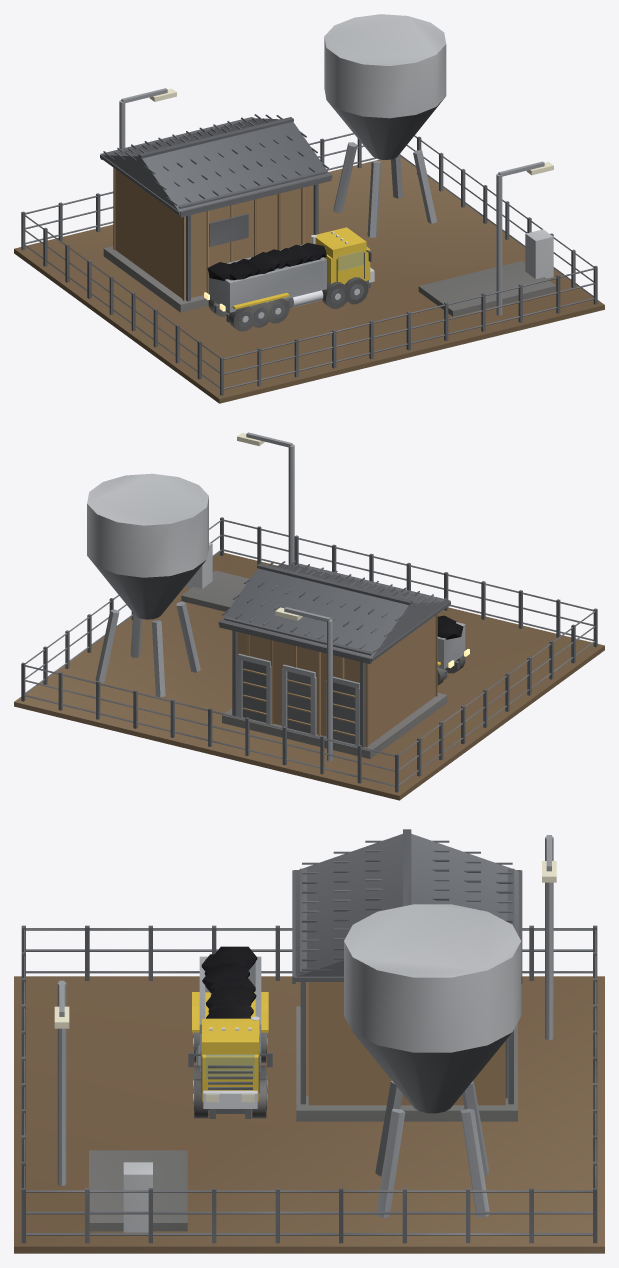
The model's file is Haul_P1.fbx.
The picture shows the model from 3 angles, top to bottom: view 1: azimuth 30°, elevation 25°; view 2: azimuth 150°, elevation 25°; view 3: azimuth 270°, elevation 25°; orthographic projection. The views are drawn at different scales.
Parts seen in each view (by area): view 1: Haul.Yard, Haul.Workshop, Haul.Hopper, Haul.Parked0, Haul.Fence, Haul.Weighbridge, Haul.Lamp0, Haul.Lamp1; view 2: Haul.Yard, Haul.Workshop, Haul.Hopper, Haul.Fence, Haul.Weighbridge, Haul.Parked0, Haul.Lamp1, Haul.Lamp0; view 3: Haul.Yard, Haul.Hopper, Haul.Workshop, Haul.Fence, Haul.Parked0, Haul.Weighbridge, Haul.Lamp0, Haul.Lamp1.
Boxes of the visible parts, x1,y1,x2,y2 form: Haul.Yard: [14, 156, 604, 403]; Haul.Workshop: [100, 114, 332, 312]; Haul.Hopper: [324, 14, 446, 237]; Haul.Parked0: [204, 227, 374, 331]; Haul.Fence: [21, 133, 597, 395]; Haul.Weighbridge: [418, 229, 556, 316]; Haul.Lamp0: [496, 161, 553, 315]; Haul.Lamp1: [119, 88, 176, 148]; Haul.Yard: [14, 552, 604, 800]; Haul.Workshop: [218, 560, 450, 758]; Haul.Hopper: [87, 473, 208, 697]; Haul.Fence: [21, 517, 597, 792]; Haul.Weighbridge: [181, 542, 249, 611]; Haul.Parked0: [437, 615, 469, 685]; Haul.Lamp1: [275, 607, 332, 761]; Haul.Lamp0: [237, 432, 294, 564]; Haul.Yard: [14, 976, 604, 1253]; Haul.Hopper: [344, 904, 521, 1217]; Haul.Workshop: [292, 829, 522, 1121]; Haul.Fence: [21, 925, 597, 1243]; Haul.Parked0: [188, 946, 272, 1118]; Haul.Weighbridge: [89, 1150, 187, 1232]; Haul.Lamp0: [54, 980, 69, 1185]; Haul.Lamp1: [542, 835, 556, 1040].
Bounding box in the file's own units: 2600 × 1167 × 2400.
